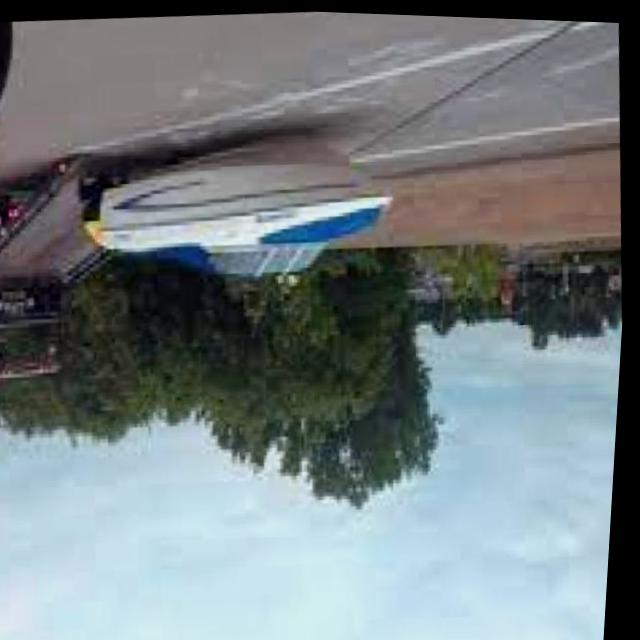ship2: (87, 131, 392, 316)
